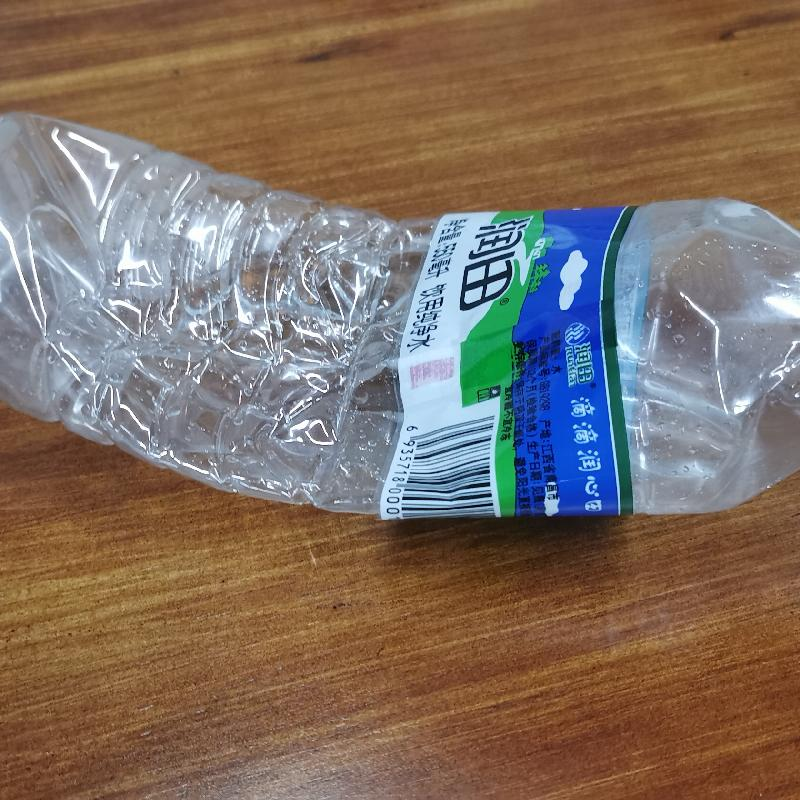bottles: (3, 104, 799, 526)
